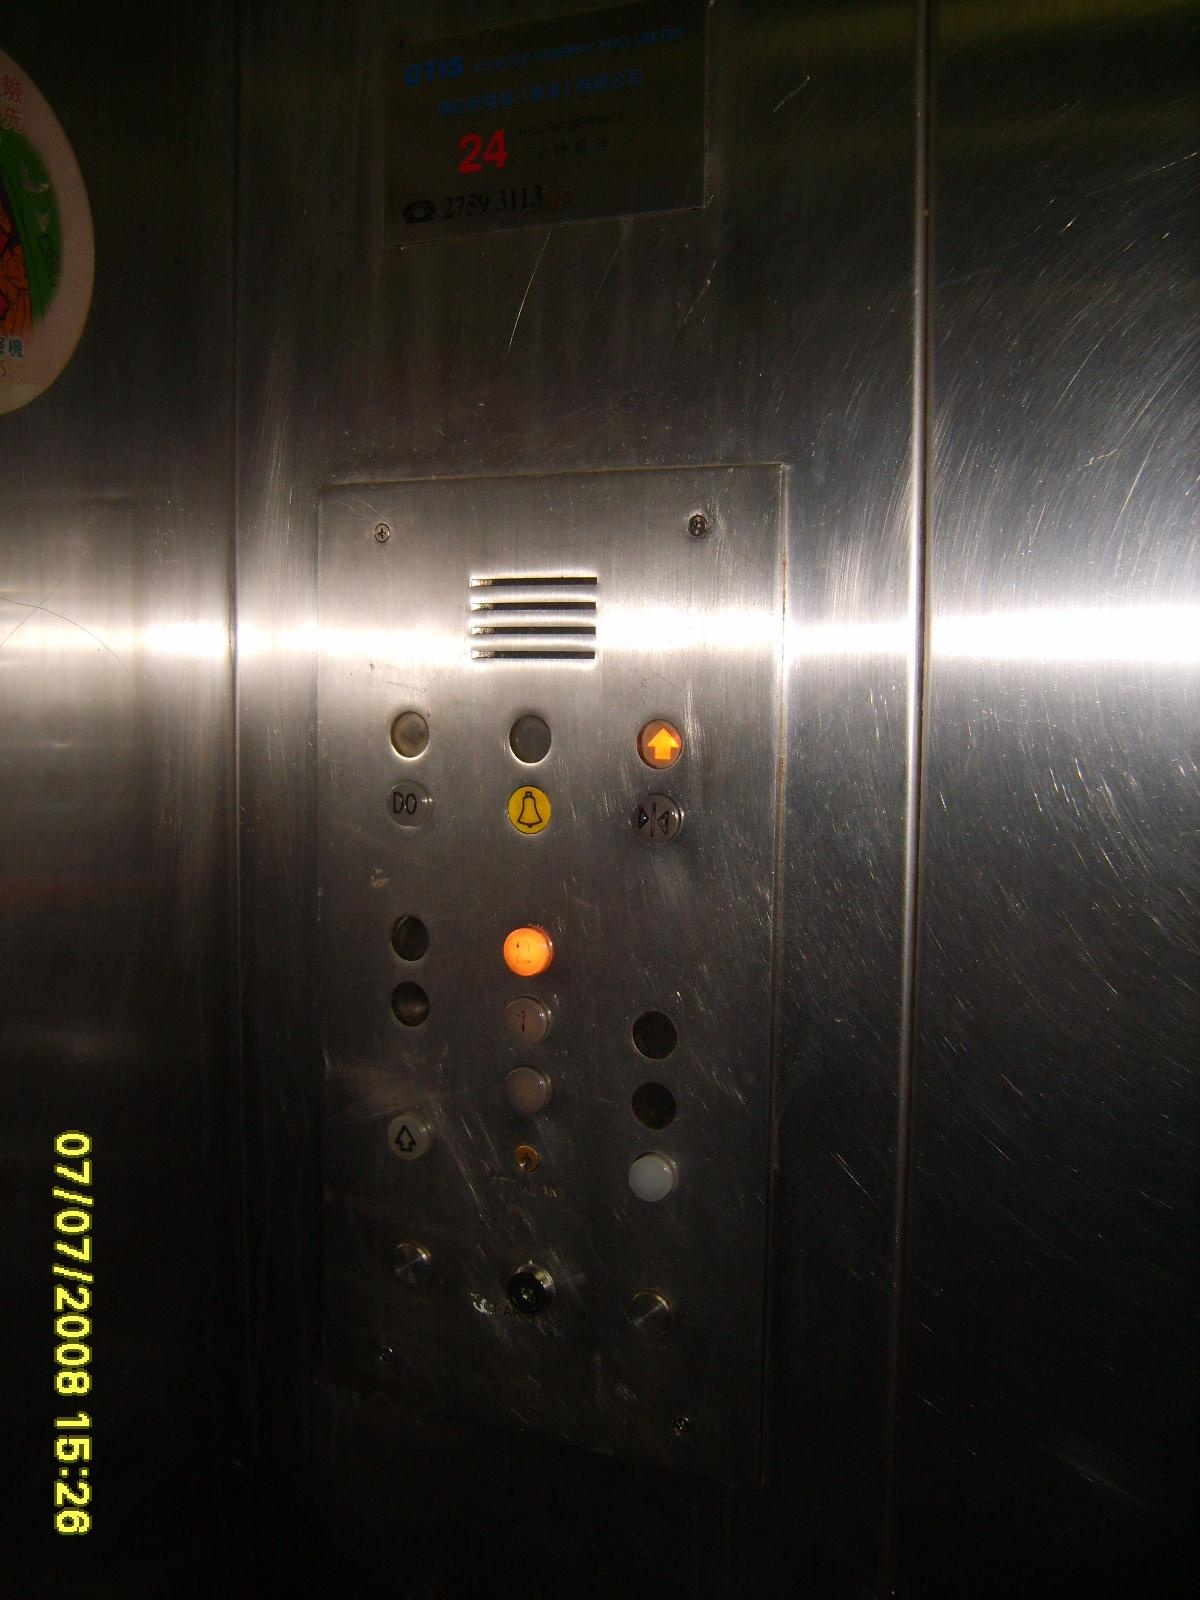1: (499, 995, 550, 1053)
2: (500, 922, 555, 981)
DO: (383, 776, 434, 831)
alarm: (505, 785, 553, 838)
blur: (388, 704, 434, 760), (389, 911, 431, 964)
close: (625, 791, 683, 848)
empty: (625, 1149, 682, 1209), (500, 1061, 553, 1119), (621, 1284, 674, 1342), (503, 711, 555, 770), (628, 1009, 682, 1065), (384, 1236, 436, 1294), (626, 1078, 681, 1133), (389, 980, 434, 1031)
keyhole: (505, 1257, 557, 1319), (508, 1141, 541, 1175)
up: (635, 716, 683, 774), (383, 1110, 429, 1167)
